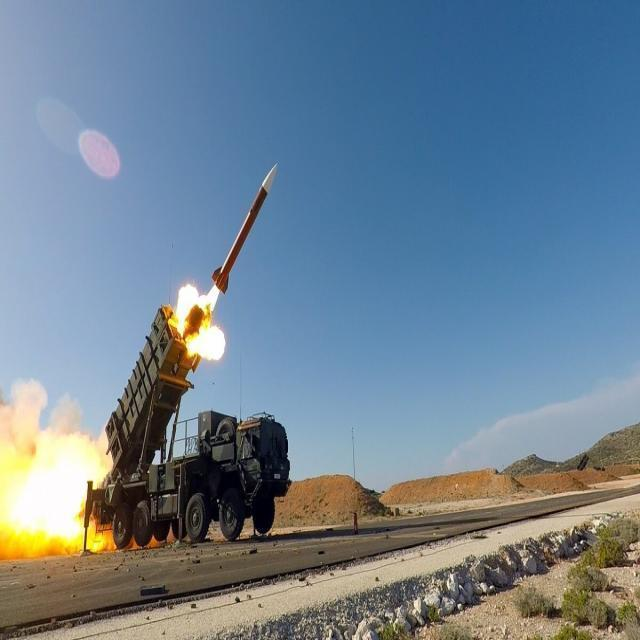missile: (210, 154, 290, 302)
